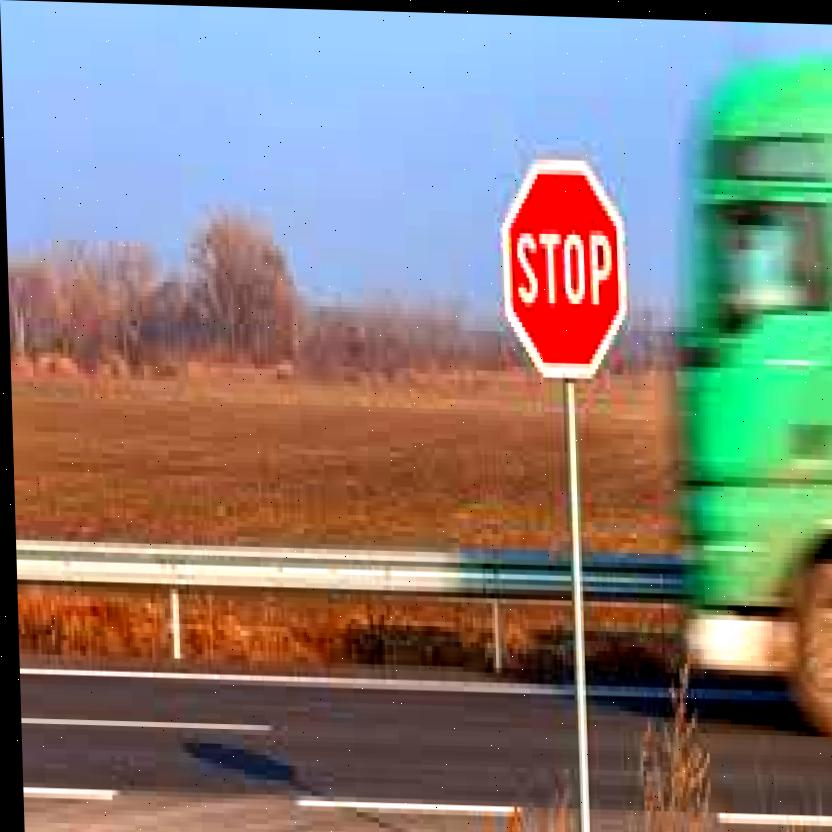Pole: (561, 387, 586, 832)
Sign: (494, 157, 629, 373)
